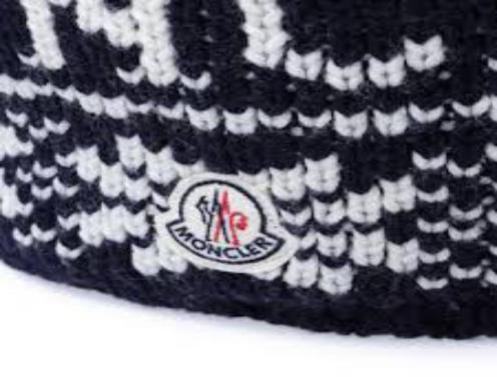MONCLER: (198, 190, 249, 248)
